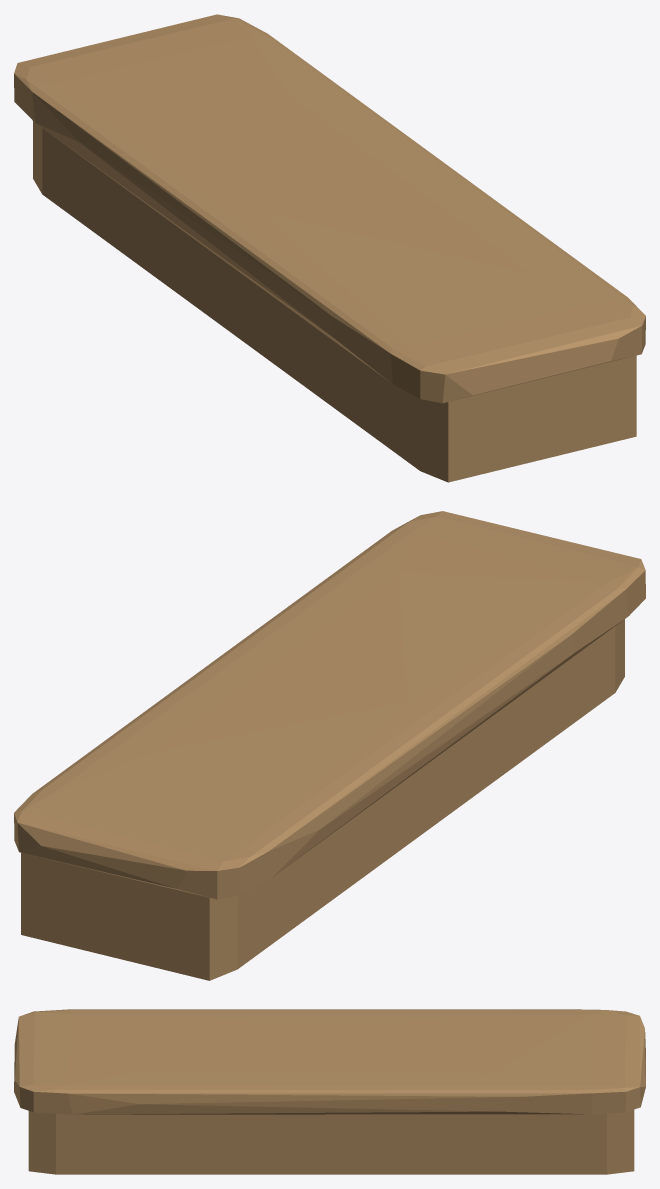
The model's file is Stairs.fbx.
3 renders of one model, top to bottom at view 1: azimuth 30°, elevation 25°; view 2: azimuth 150°, elevation 25°; view 3: azimuth 270°, elevation 25°, orthographic. The views are drawn at different scales.
Visible parts, largest first — view 1: UpperPart, LowerPart; view 2: UpperPart, LowerPart; view 3: UpperPart, LowerPart.
Boxes of the visible parts, x1,y1,x2,y2 form: UpperPart: (14,14,645,403); LowerPart: (33,121,636,482); UpperPart: (14,511,645,899); LowerPart: (21,619,624,980); UpperPart: (14,1009,645,1114); LowerPart: (28,1109,634,1174).
Bounding box in the file's own units: 0.1642 × 0.0802 × 0.5124.
